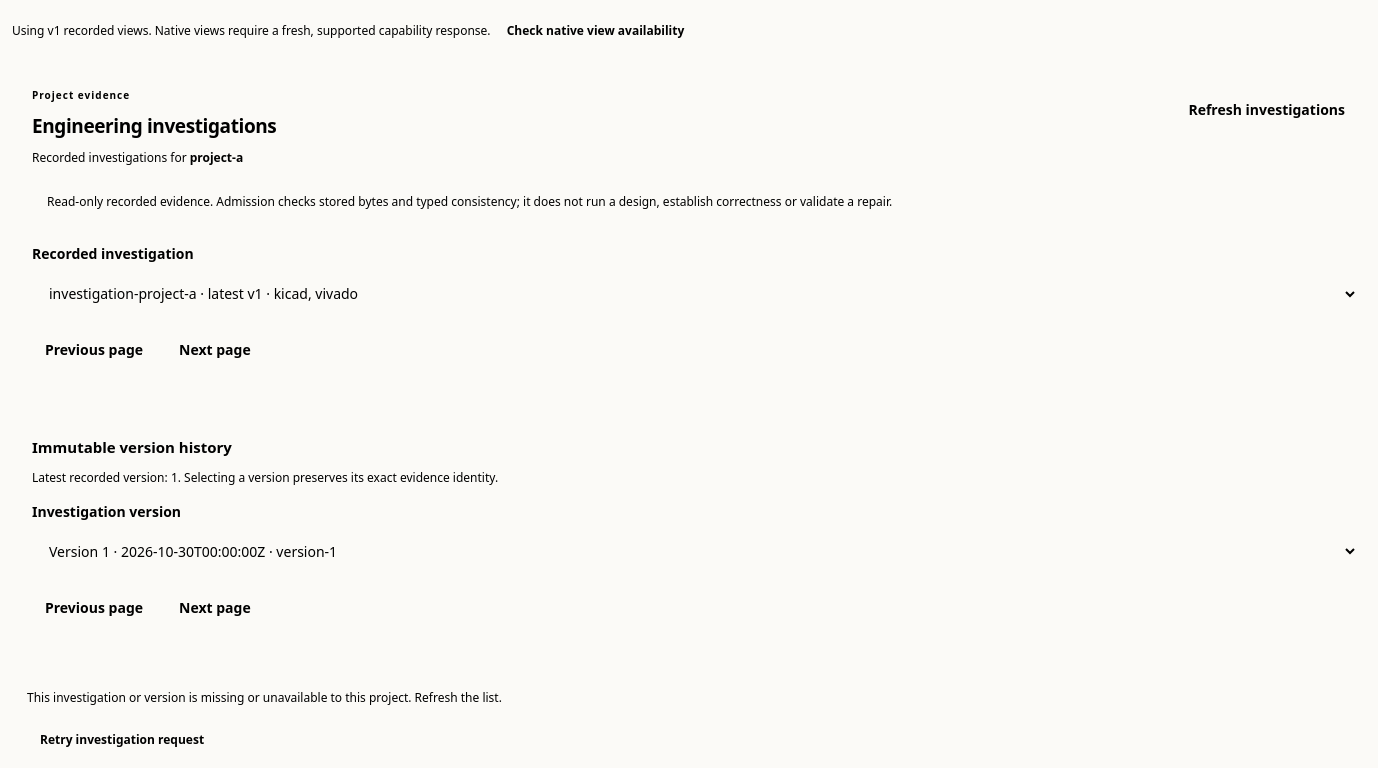
Test: engineering investigation read-only workbench (mock HTTP) › handles HTTP 404 without leaking server error bodies and recovers on retry
Expected: the message is shown, [27,689,502,762]
Click the button "Retry investigation request" at (122, 740), box [27,718,217,762]
(page scrolled)
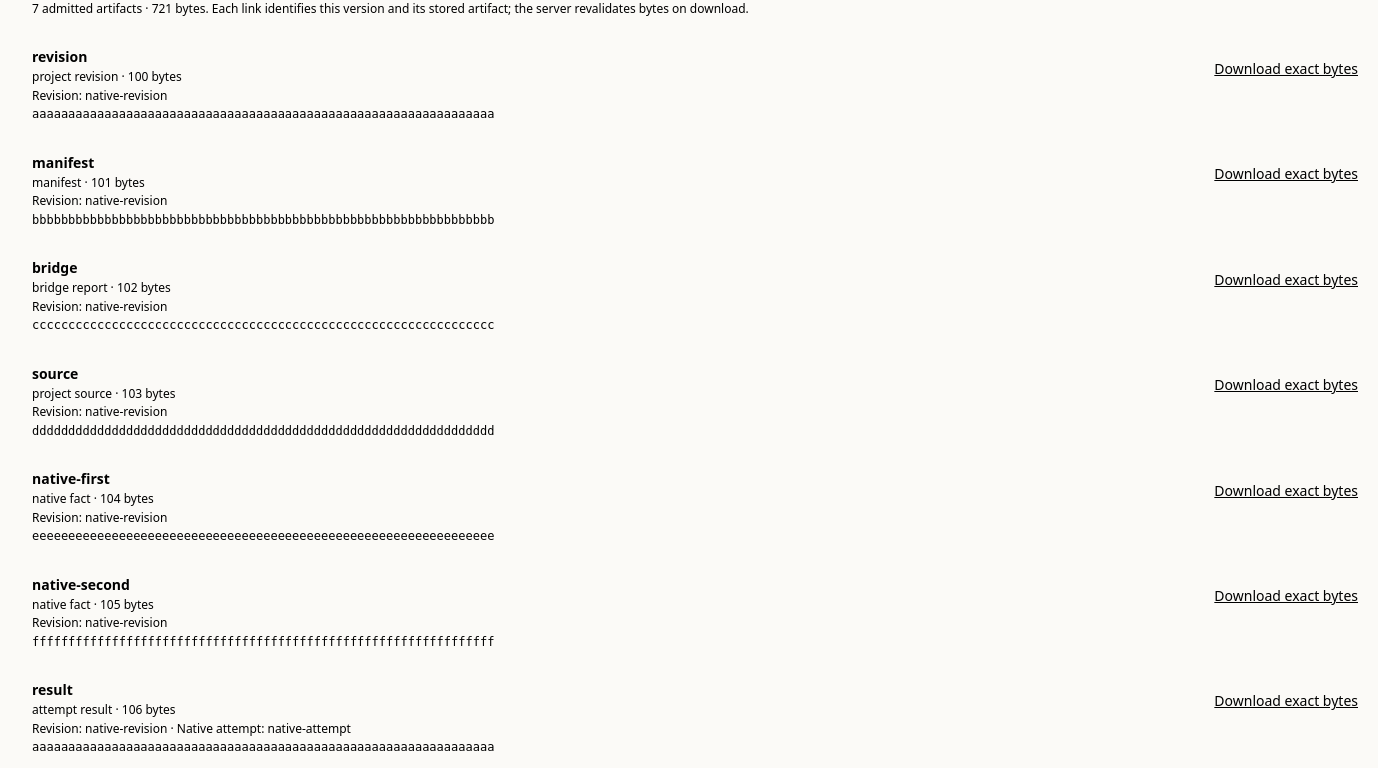
Expected: the link with aria-label "Download source" is shown, [1214,375,1358,394]
